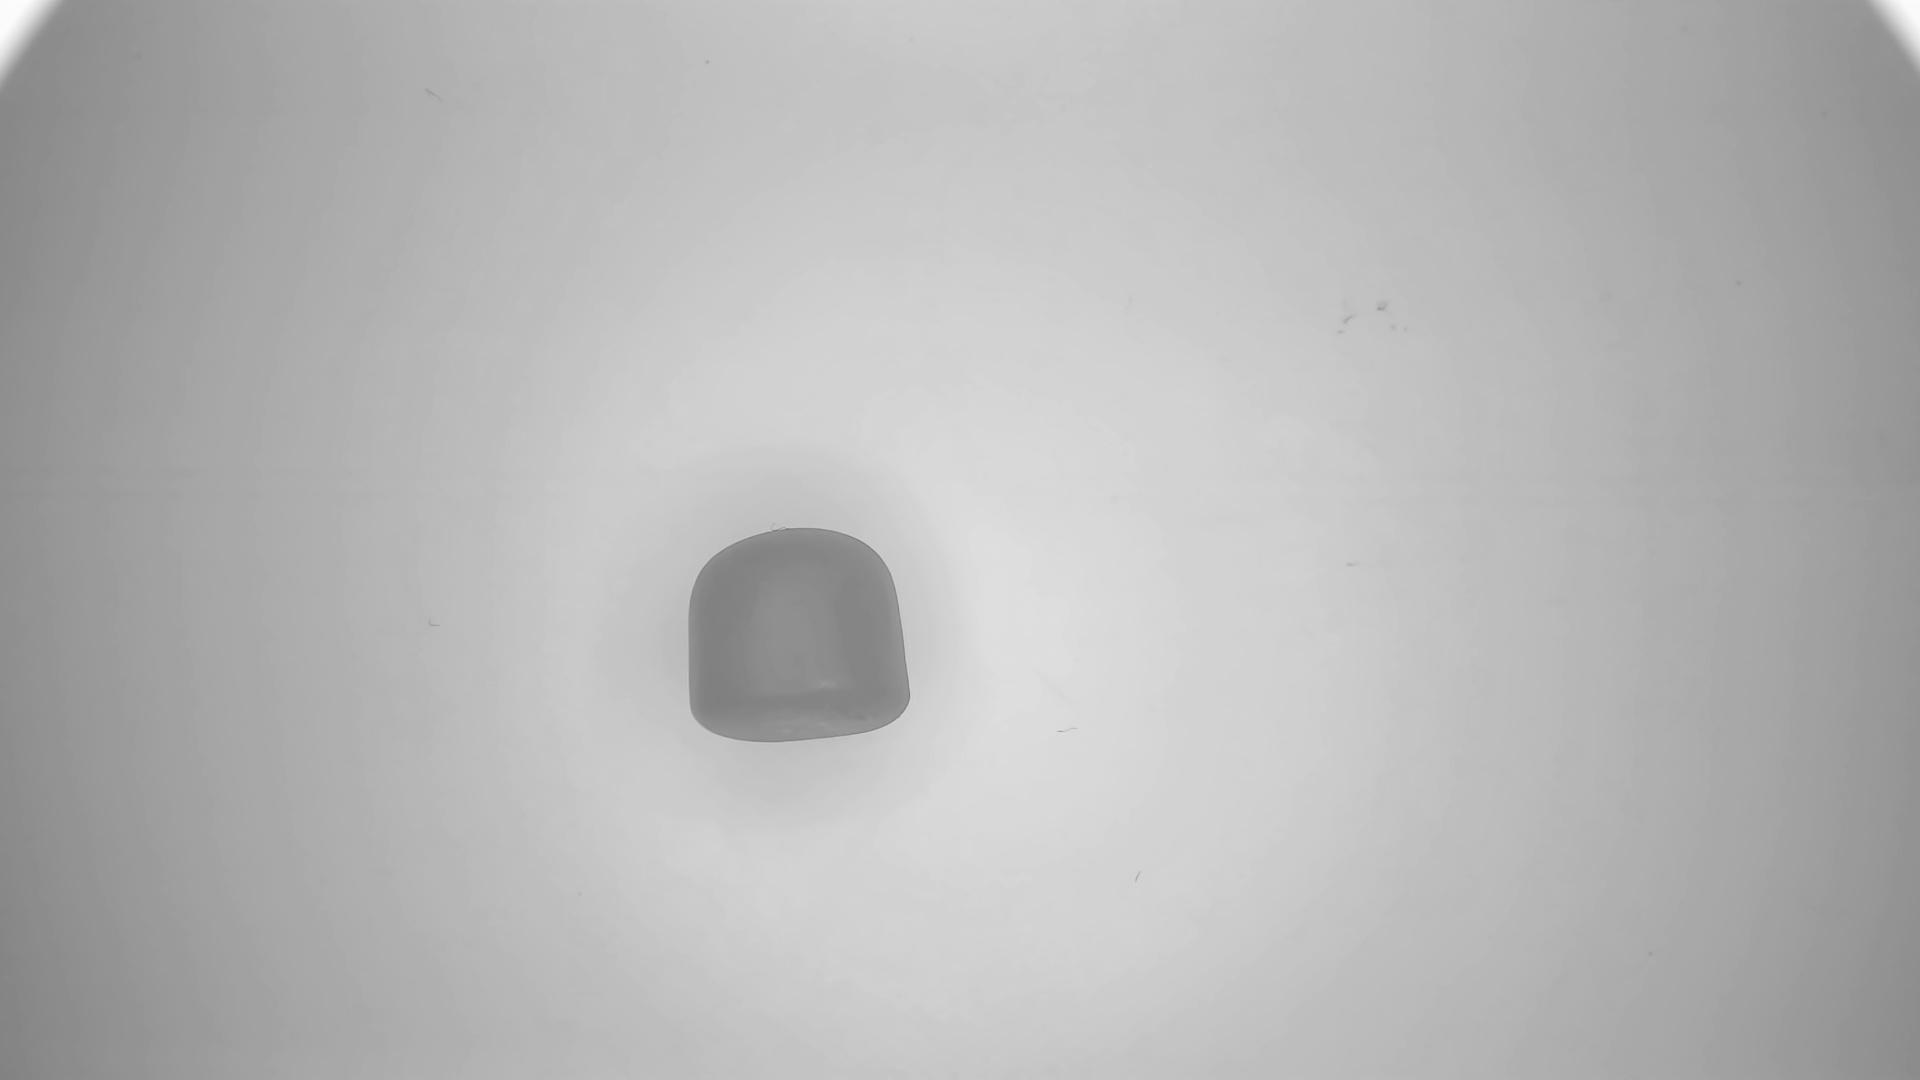normal: (686, 527, 911, 748)
